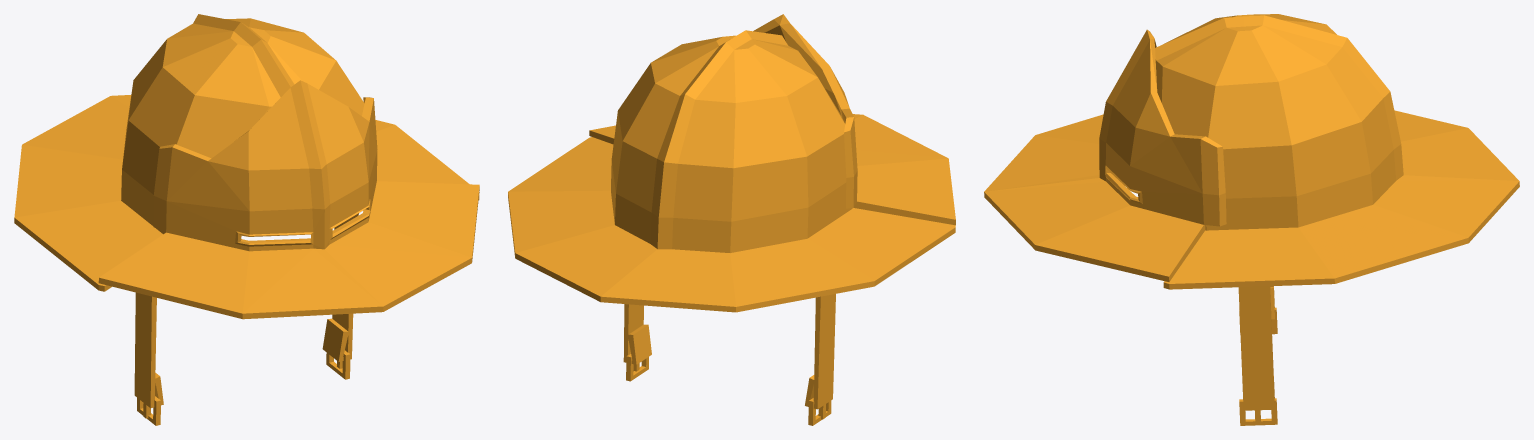
File: SM_Helmet_Kattle_Hat_Visored.fbx
The picture shows the model from 3 angles, left to right: view 1: azimuth 30°, elevation 25°; view 2: azimuth 150°, elevation 25°; view 3: azimuth 270°, elevation 25°; orthographic projection. The views are drawn at different scales.
Visible parts, largest first — view 1: helmet-kattle-hat-visored-visor, helmet-kattle-hat-visored-helmet; view 2: helmet-kattle-hat-visored-helmet, helmet-kattle-hat-visored-visor; view 3: helmet-kattle-hat-visored-helmet, helmet-kattle-hat-visored-visor.
Boxes of the visible parts, x1,y1,x2,y2 form: helmet-kattle-hat-visored-visor: [98, 80, 479, 319]; helmet-kattle-hat-visored-helmet: [14, 14, 479, 425]; helmet-kattle-hat-visored-helmet: [508, 30, 955, 425]; helmet-kattle-hat-visored-visor: [589, 14, 955, 225]; helmet-kattle-hat-visored-helmet: [1155, 14, 1519, 425]; helmet-kattle-hat-visored-visor: [984, 29, 1226, 281].
Bounding box in the file's own units: 0.4038 × 0.3762 × 0.5015.
